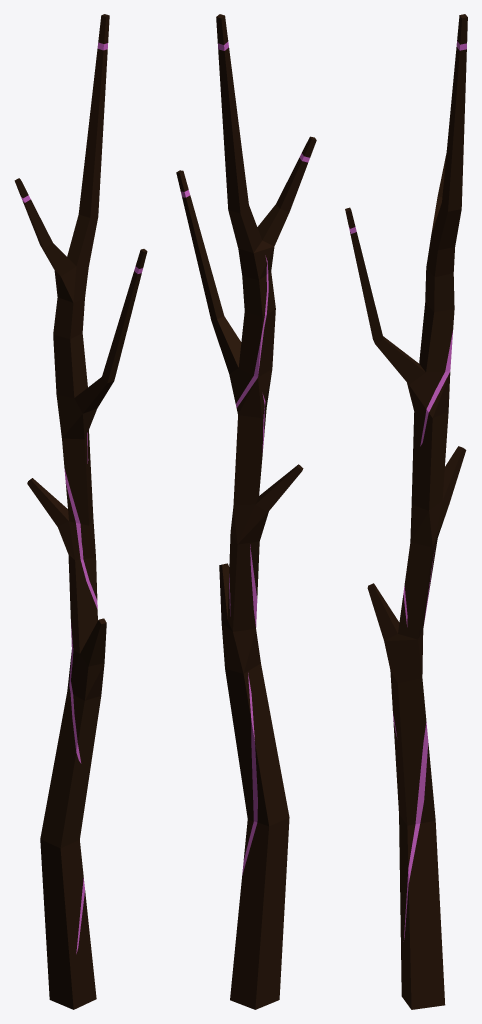
File: FaeWand.obj
3 views of the same model, side by side, from view 1: azimuth 30°, elevation 25°; view 2: azimuth 210°, elevation 25°; view 3: azimuth 270°, elevation 25° (orthographic). The views are drawn at different scales.
Visible parts, largest first — view 1: Cube; view 2: Cube; view 3: Cube.
Part boxes in pixels (x1,y1,x2,y2): Cube: (14, 14, 147, 1009); Cube: (176, 14, 316, 1009); Cube: (345, 14, 467, 1009).
Size of the model in its own units: 0.0888 by 0.8379 by 0.0922.
